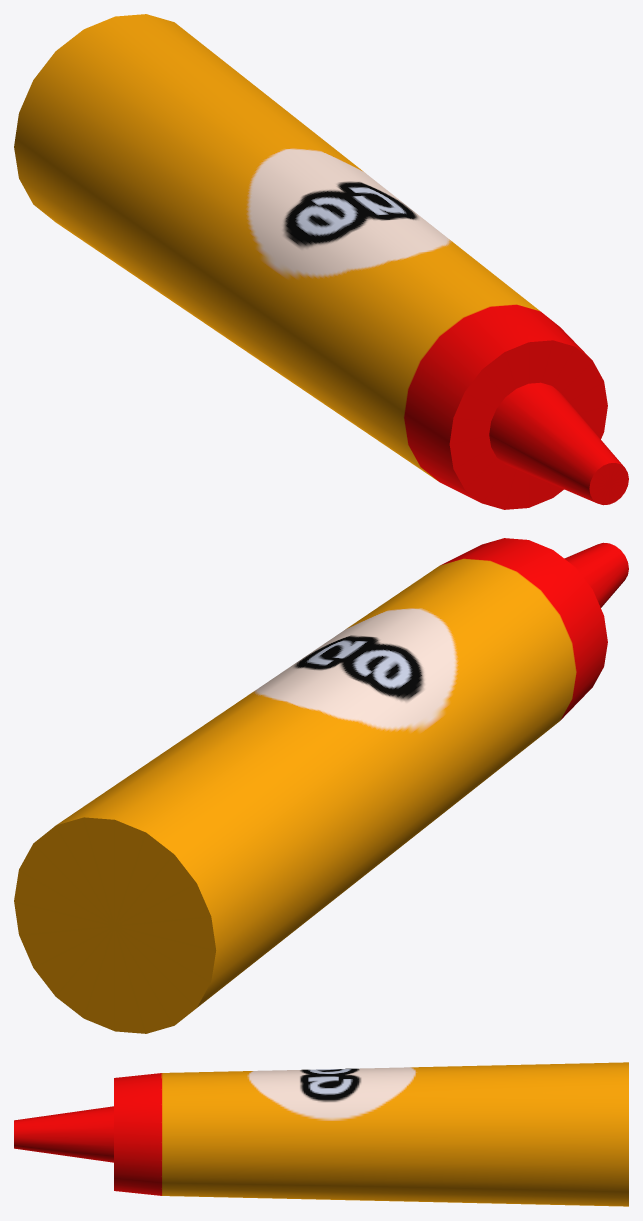
Rendered from stationery_02.glb.
3 views of the same model, one above another, from view 1: azimuth 30°, elevation 25°; view 2: azimuth 150°, elevation 25°; view 3: azimuth 270°, elevation 25° (orthographic). The views are drawn at different scales.
Visible parts, largest first — view 1: obj1; view 2: obj1; view 3: obj1.
Boxes of the visible parts, x1,y1,x2,y2 form: obj1: [14, 14, 628, 509]; obj1: [14, 538, 628, 1033]; obj1: [14, 1062, 628, 1206].
Size of the model in its own units: 2.4 by 2.4 by 10.16.
Materials: 1 (1 with a texture image).
